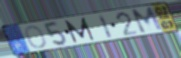2: (115, 11, 140, 37)
5: (41, 20, 69, 47)
I: (97, 13, 115, 39)
M: (130, 5, 165, 35), (63, 17, 96, 44)
O: (24, 25, 48, 50)
